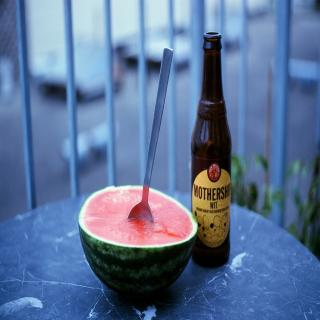Watermelon: (78, 185, 200, 293)
